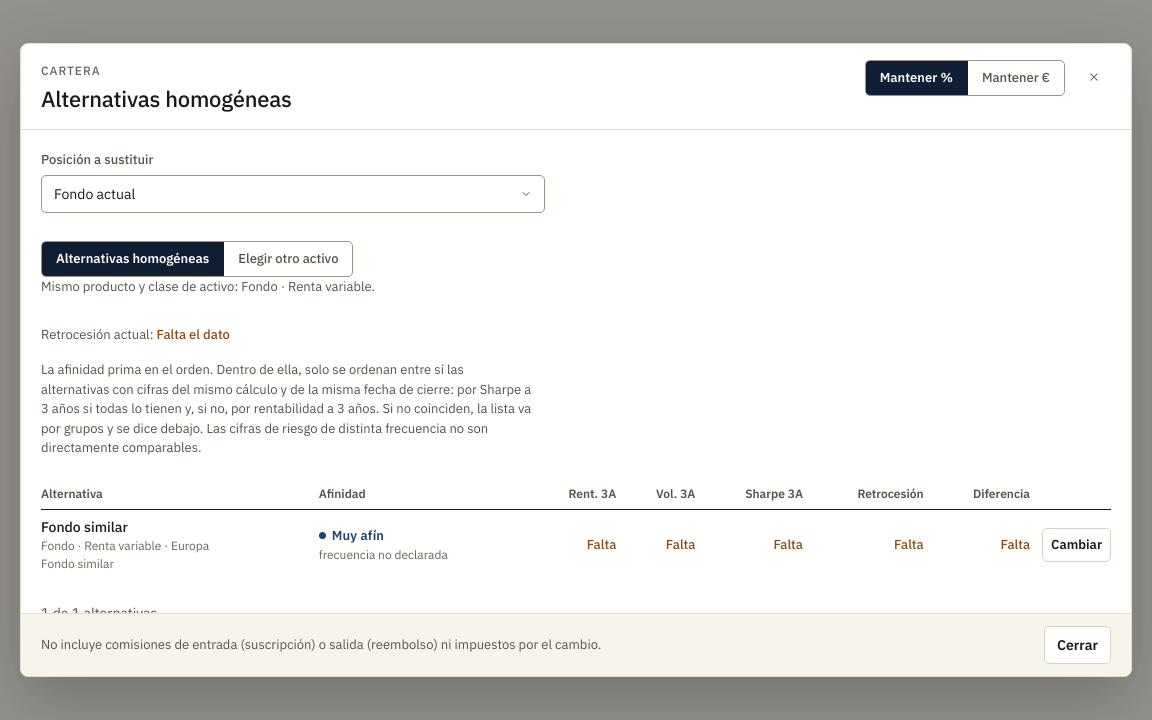
sustituir una posición › cambiar la posición vuelve al modo homogéneo y al vehículo de la nueva posición
The image size is (1152, 720).
Click the button "Elegir otro activo".
click(288, 259)  # box [223,242,352,276]
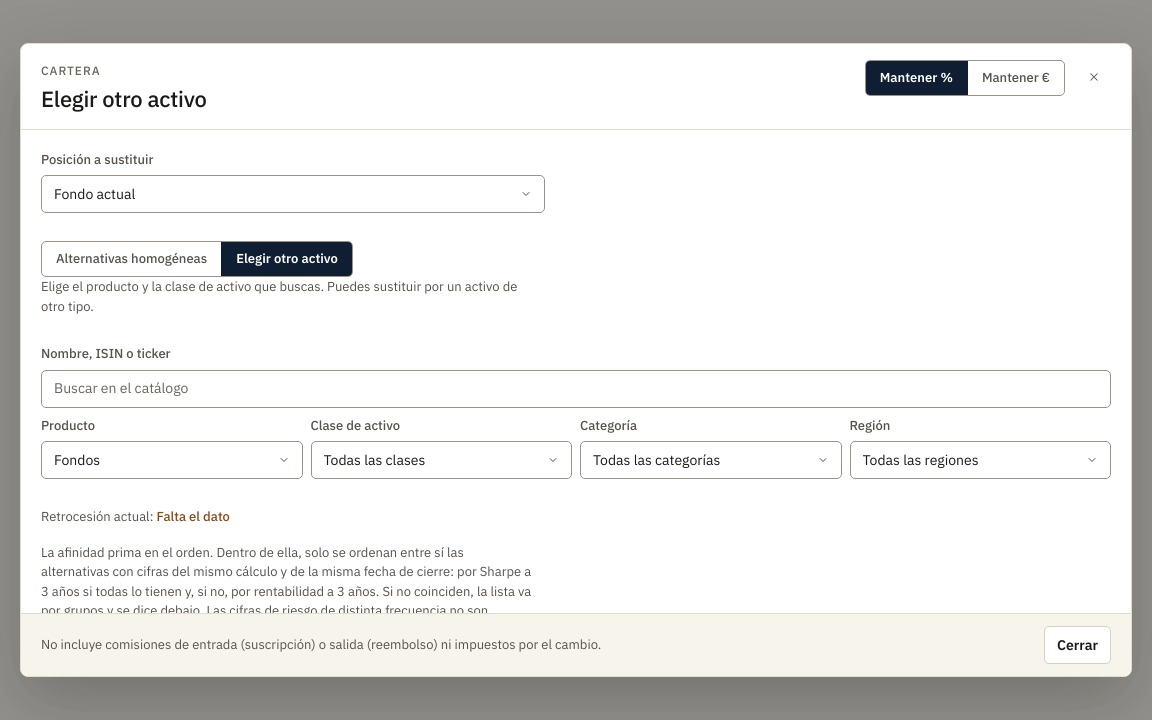
Select "Acción actual" in the dropdown labelled "Posición a sustituir" at x=293, y=194, box [41,175,545,213]
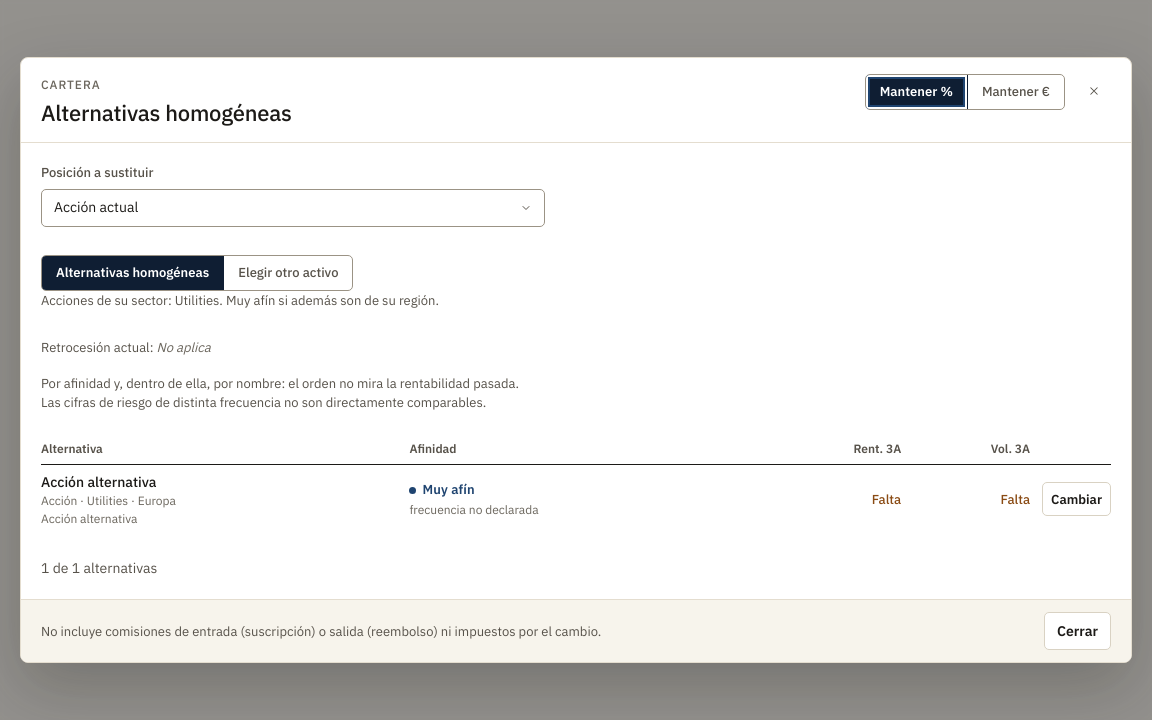
Check: the button "Alternativas homogéneas" is pressed, box [42,256,223,290]
